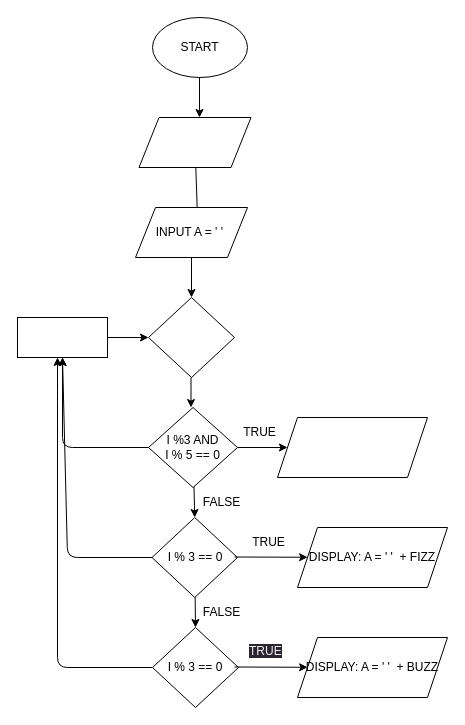
Image size: 465x725. Some labels were removed from this diagram. The shapes that lost their labels are listed below. From the top down, each one's centre as x and y in pixels, then its label:
the point at 194,142: INPUT N = 100
the point at 62,337: I += I
the point at 191,337: I < =N
the point at 352,447: DISPLAY: A = ' ' + BUZZ && FIZZ
